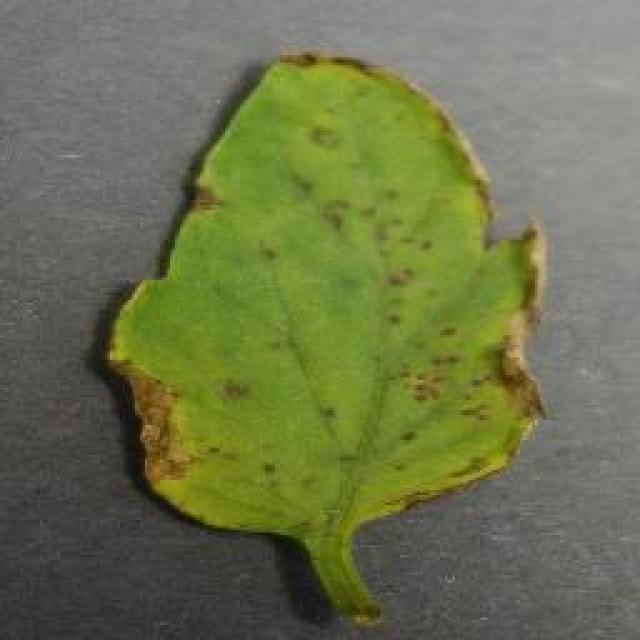Tomato___Bacterial_spot: (102, 51, 549, 627)
